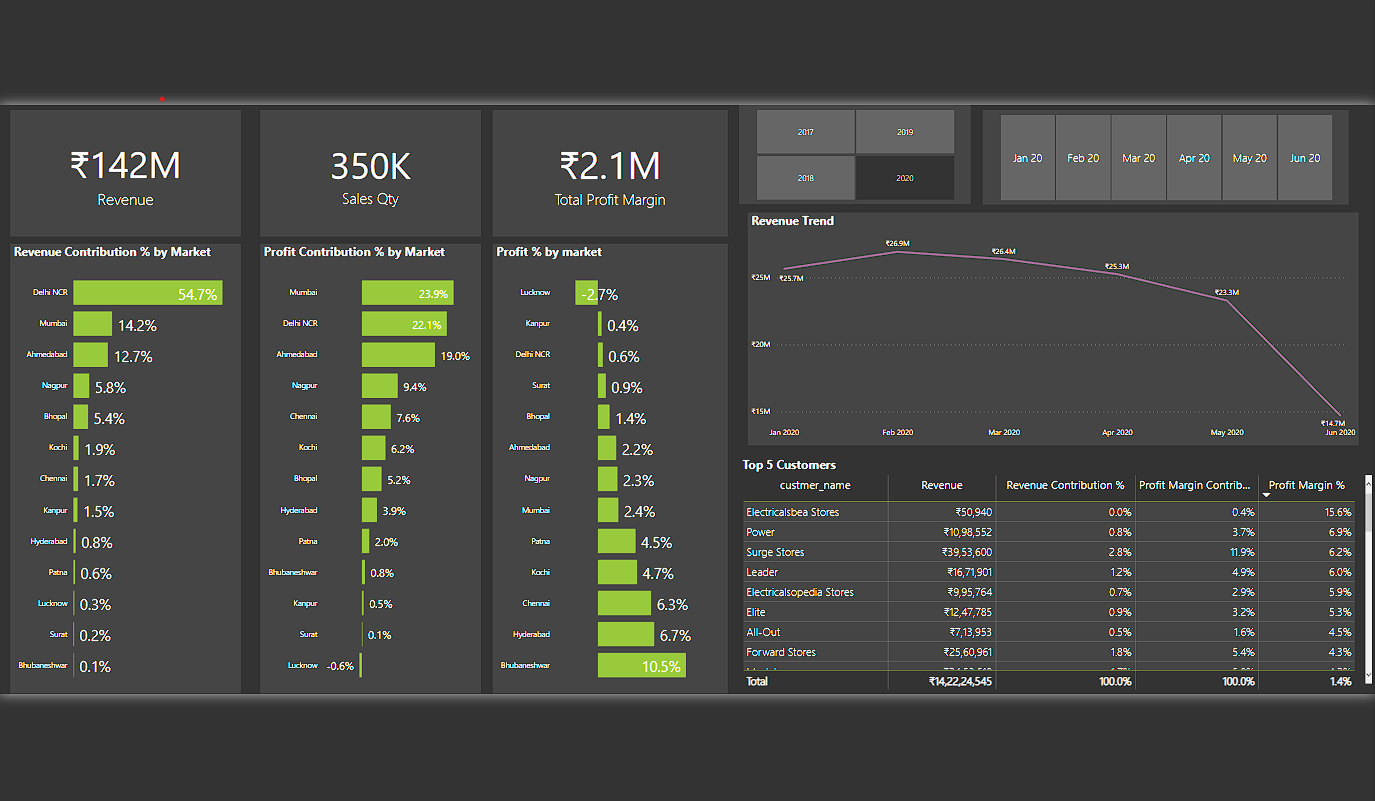

The page's visual inventory and layout, read from the dashboard file:
{"tool":"powerbi","page":{"name":"Profit Analysis","canvas":[2000,856],"ordinal":1},"visuals":[{"type":"card","fields":{"Values":["BaseMeasures (2).Revenue"]},"box":[16,6.4,334.9,184.3],"z":0},{"type":"card","fields":{"Values":["BaseMeasures (2).Sales Qty"]},"box":[379.8,6.4,320.5,184.3],"z":1000},{"type":"barChart","title":"Profit % by market","fields":{"Y":["BaseMeasures (2).Profit Margin %"],"Category":["sales markets.markets_name"]},"box":[717.9,201.9,341.3,653.8],"z":2000},{"type":"barChart","title":"Profit Contribution % by Market","fields":{"Y":["BaseMeasures (2).Profit Margin Contribution %"],"Category":["sales markets.markets_name"]},"box":[379.8,201.9,320.5,653.8],"z":3000},{"type":"slicer","fields":{"Values":["sales date.year"]},"box":[1075.3,0,336.5,144.2],"z":4000},{"type":"slicer","fields":{"Values":["sales date.cy_date"]},"box":[1429.5,6.4,532.1,137.8],"z":5000},{"type":"tableEx","title":"Top 5 Customers","fields":{"Values":["sales customers.custmer_name","BaseMeasures (2).Revenue","BaseMeasures (2).Revenue Contribution %","BaseMeasures (2).Profit Margin Contribution %","BaseMeasures (2).Profit Margin %"]},"box":[1075.3,511.2,924.7,344.6],"z":6000},{"type":"lineChart","title":"Revenue Trend","fields":{"Y":["BaseMeasures (2).Revenue"],"Category":["sales date.cy_date"]},"box":[1088.1,155.4,887.8,338.1],"z":7000},{"type":"card","fields":{"Values":["BaseMeasures (2).Total Profit Margin"]},"box":[717.9,6.4,341.3,184.3],"z":8000},{"type":"barChart","title":"Revenue Contribution % by Market","fields":{"Y":["BaseMeasures (2).Revenue Contribution %"],"Category":["sales markets.markets_name"]},"box":[16,201.9,334.9,653.8],"z":9000}]}

Visuals, with their boxes on the page's 2000x856 design canvas (x1, y1, x2, y2). These are canvas units, not pixel positions in the 1375x801 screenshot, which may show the page scaled, cropped or inside an application window:
card - BaseMeasures (2).Revenue: <box>16,6,351,191</box>
card - BaseMeasures (2).Sales Qty: <box>380,6,700,191</box>
"Profit % by market" barChart: <box>718,202,1059,856</box>
"Profit Contribution % by Market" barChart: <box>380,202,700,856</box>
slicer - sales date.year: <box>1075,0,1412,144</box>
slicer - sales date.cy_date: <box>1430,6,1962,144</box>
"Top 5 Customers" tableEx: <box>1075,511,2000,856</box>
"Revenue Trend" lineChart: <box>1088,155,1976,494</box>
card - BaseMeasures (2).Total Profit Margin: <box>718,6,1059,191</box>
"Revenue Contribution % by Market" barChart: <box>16,202,351,856</box>
